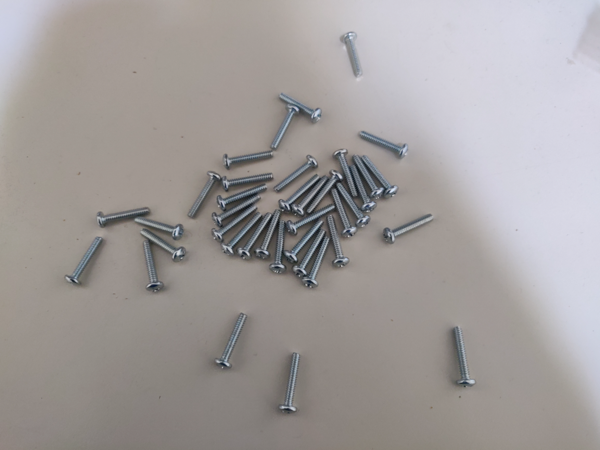longscrew: (63, 238, 103, 285), (131, 241, 164, 297), (276, 351, 305, 413), (217, 311, 245, 373), (186, 172, 222, 220), (237, 211, 270, 262), (282, 220, 322, 262), (291, 229, 325, 278), (301, 236, 330, 292), (212, 206, 259, 240), (138, 232, 187, 264), (279, 152, 319, 191), (382, 215, 437, 243), (361, 158, 399, 198), (287, 204, 335, 235), (338, 181, 368, 229), (359, 127, 408, 156), (453, 325, 474, 392), (224, 213, 261, 251), (280, 172, 317, 210), (216, 182, 266, 209), (92, 204, 149, 227), (255, 212, 280, 264), (310, 170, 340, 212), (296, 175, 326, 217), (213, 197, 261, 223), (332, 189, 356, 240), (355, 155, 382, 199), (281, 93, 322, 119), (221, 147, 274, 167), (221, 169, 274, 189), (337, 149, 359, 197), (272, 108, 298, 148), (268, 220, 285, 280), (330, 214, 347, 270), (352, 167, 373, 211), (135, 220, 187, 237), (346, 30, 360, 80)
